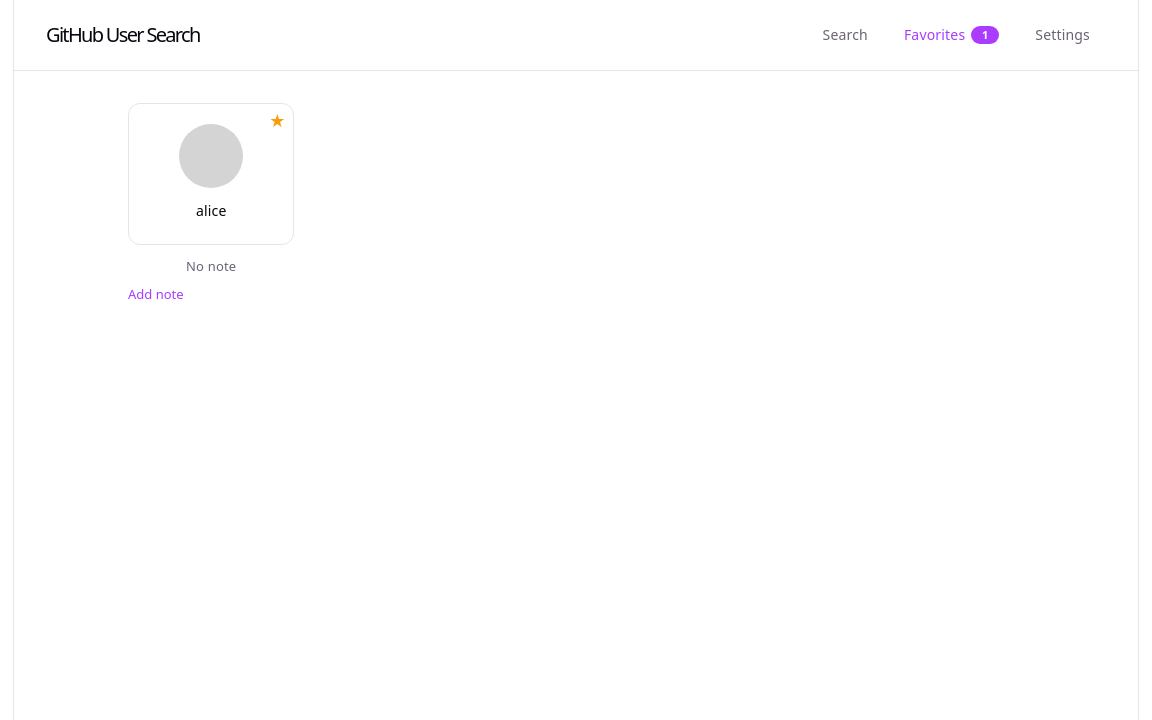
Test case: favorites page notes › saves a note for a favorite user and returns to summary view
The width and height of the screenshot is (1152, 720).
Step 1. Click the button with aria-label "Add note for alice" → click(156, 294), box [128, 281, 184, 308]
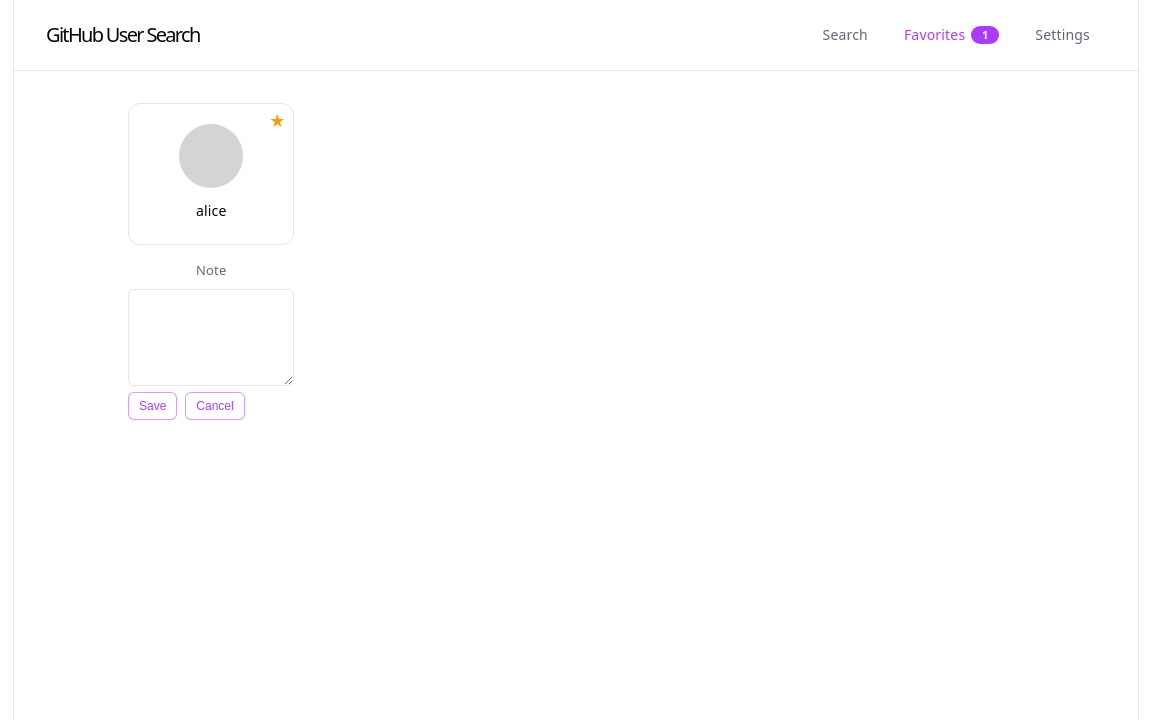
Step 2. Type "Helpful React profile" into the text box named "Note for alice" → (211, 337), box [128, 289, 294, 386]
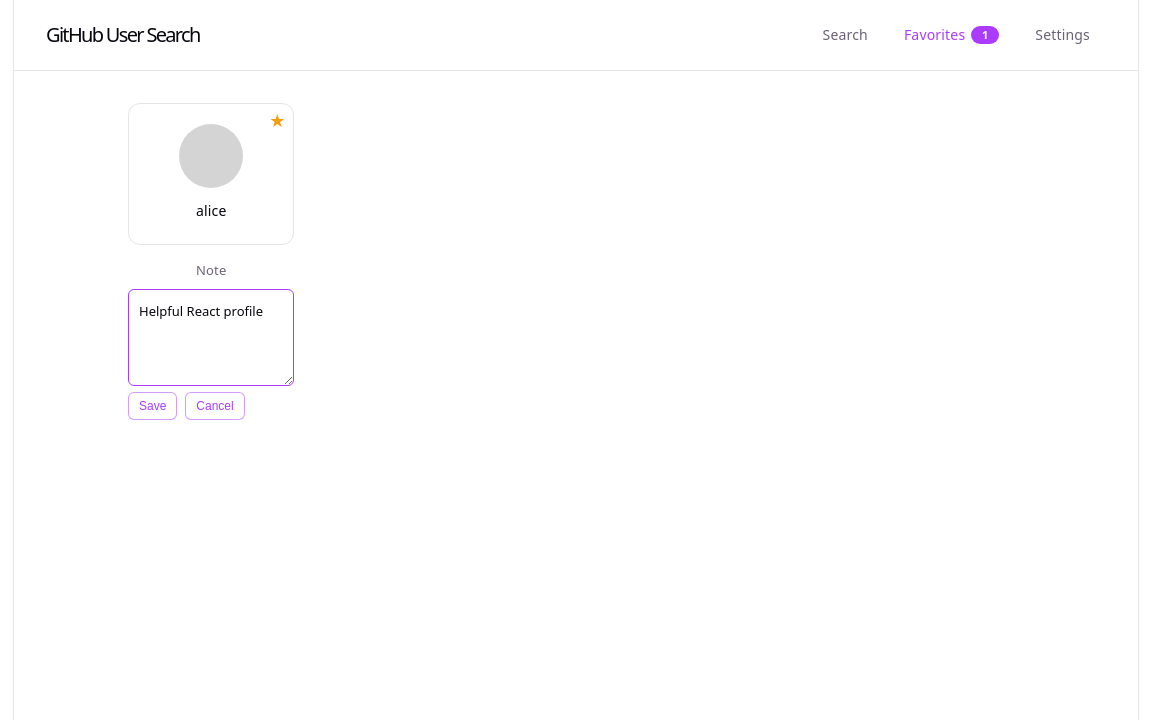
Step 3. Click the button with aria-label "Save note for alice" → click(153, 406), box [128, 392, 177, 420]
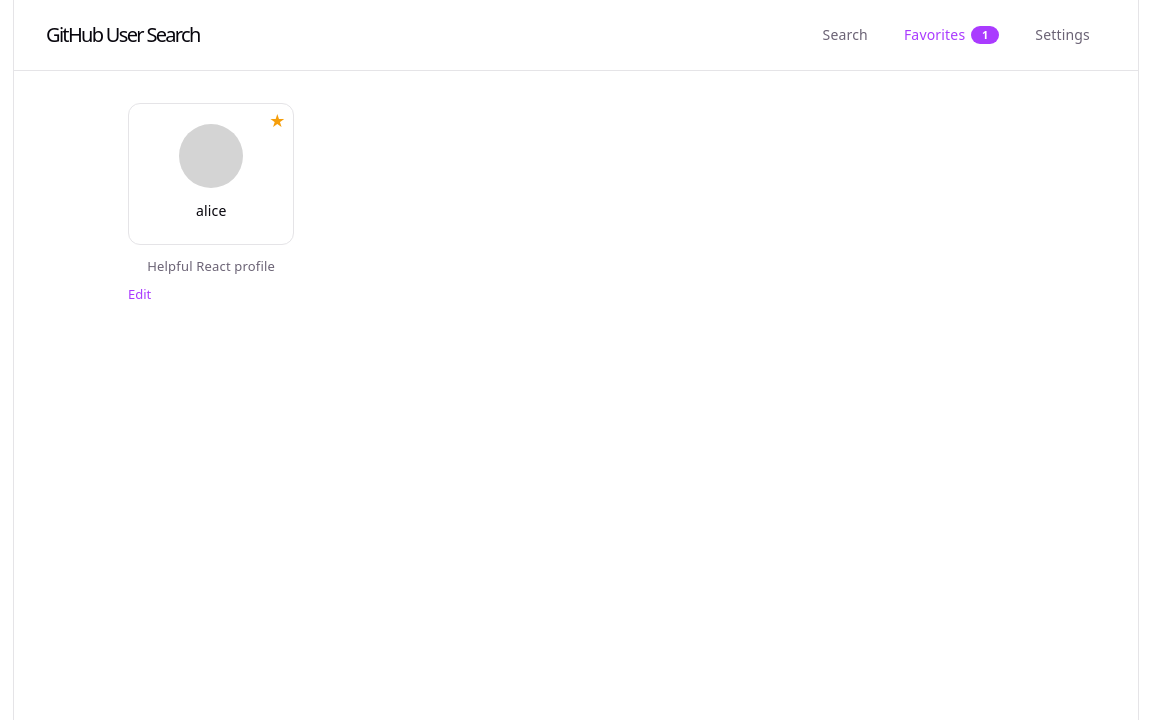
Now the text "Helpful React profile" is shown, box [147, 257, 275, 275]
Now the button with aria-label "Edit note for alice" is shown, box [128, 281, 151, 308]
